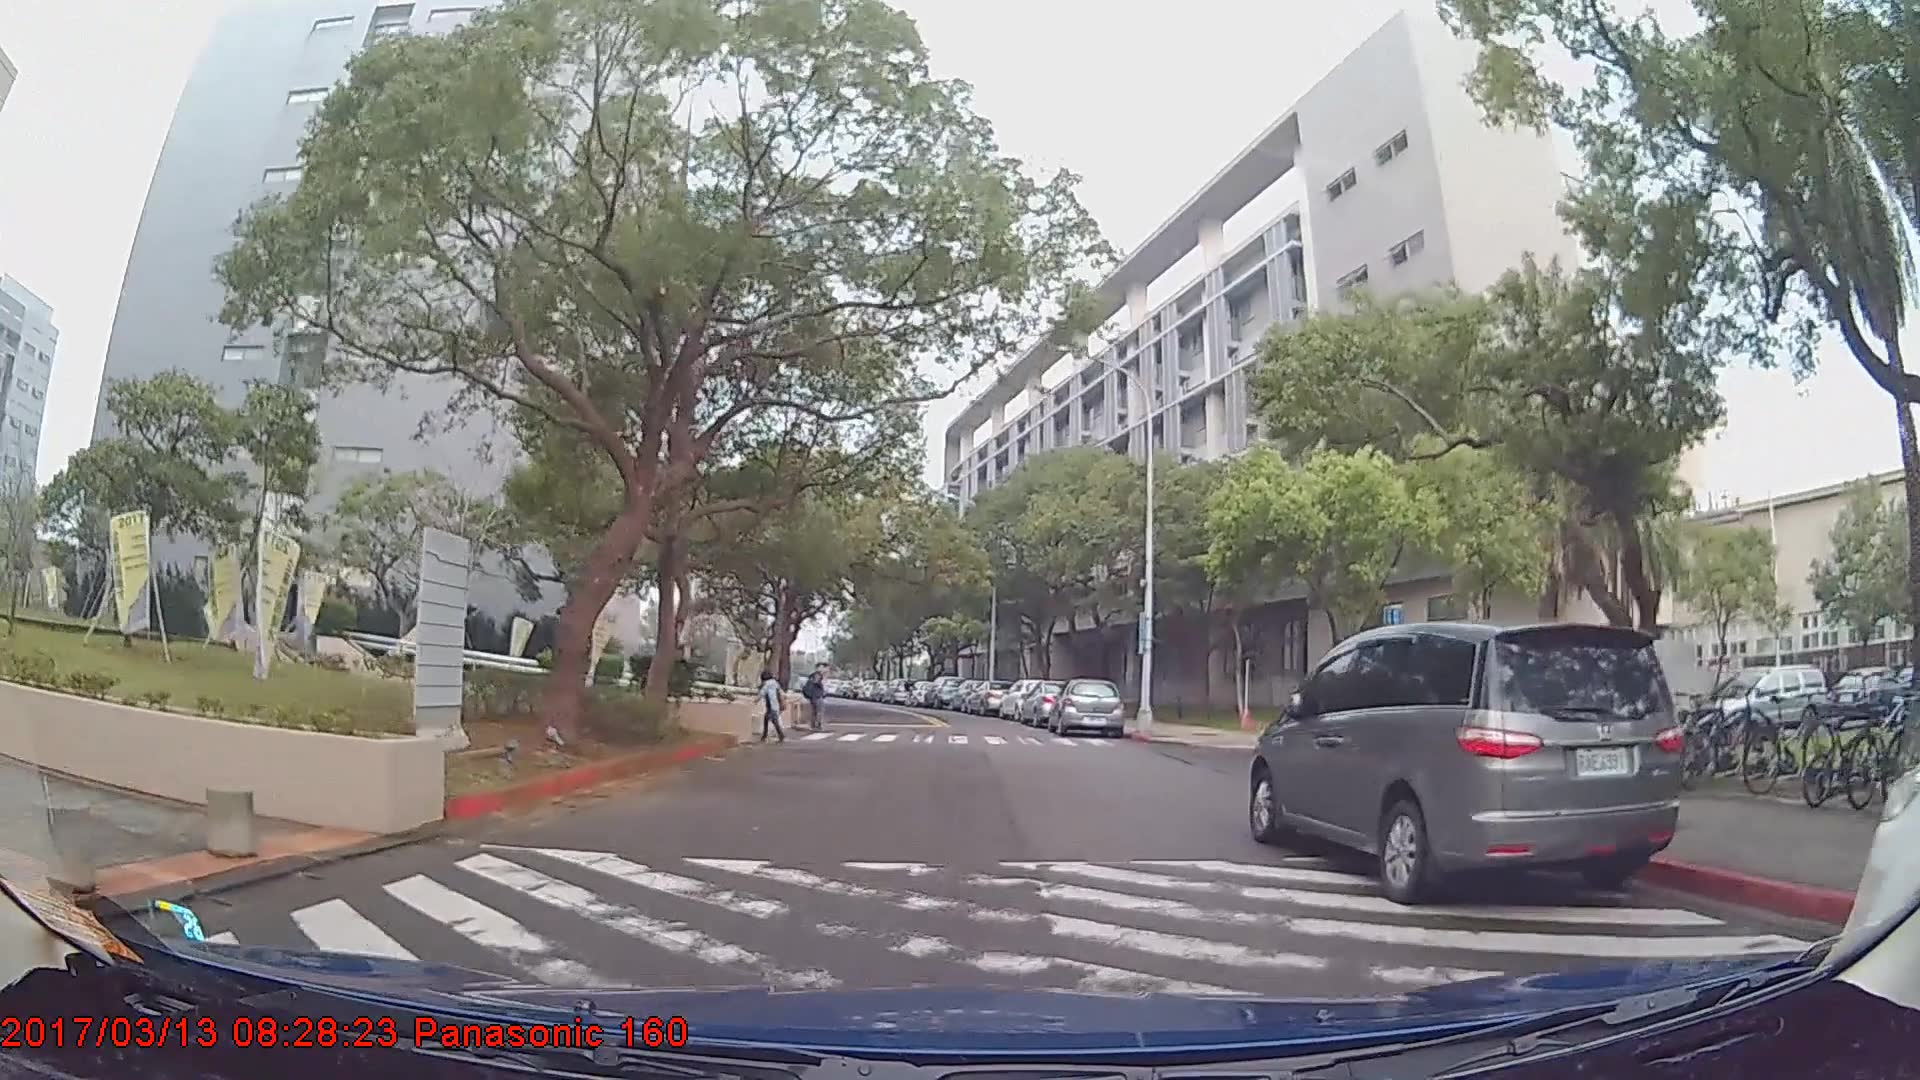pedestrian: (757, 673, 787, 746), (803, 661, 829, 737)
vehicle: (1248, 617, 1687, 907), (1691, 662, 1828, 744), (1825, 663, 1910, 725), (1052, 677, 1125, 738), (1016, 677, 1081, 726), (965, 682, 1009, 717), (921, 674, 963, 709)
